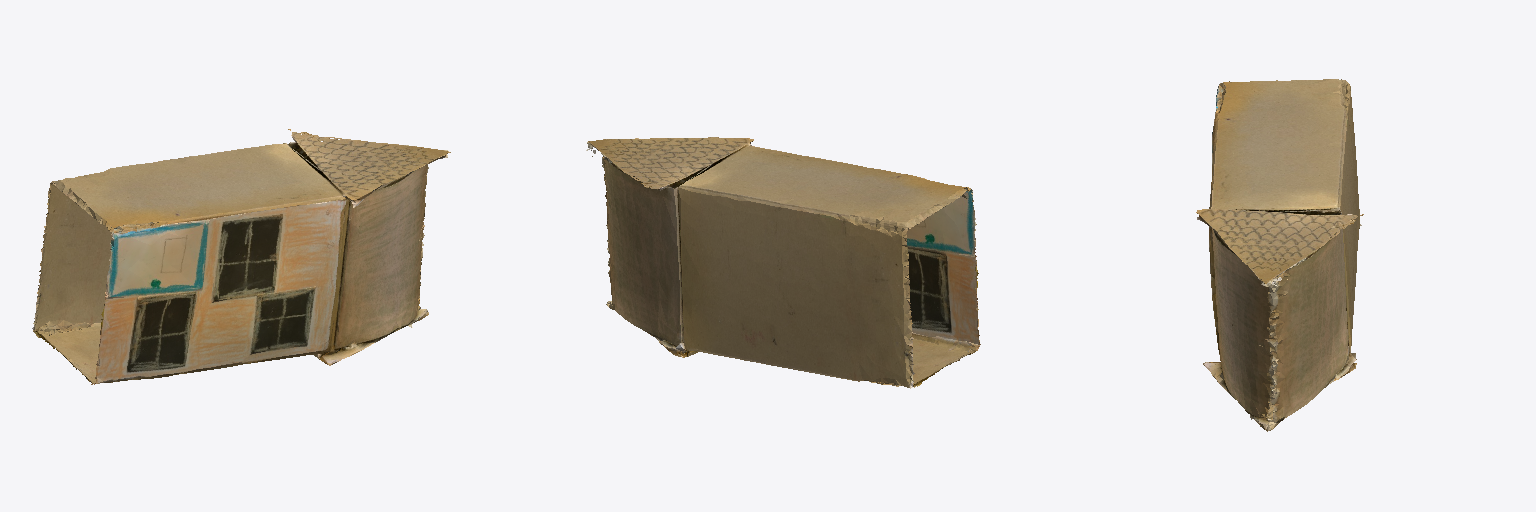
3 renders of one model, left to right at view 1: azimuth 30°, elevation 25°; view 2: azimuth 150°, elevation 25°; view 3: azimuth 270°, elevation 25°, orthographic.
Bounding box in the file's own units: 7.51 × 3.65 × 2.91.
1 materials, 1 textured.